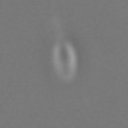normal: (47, 1, 74, 39)
